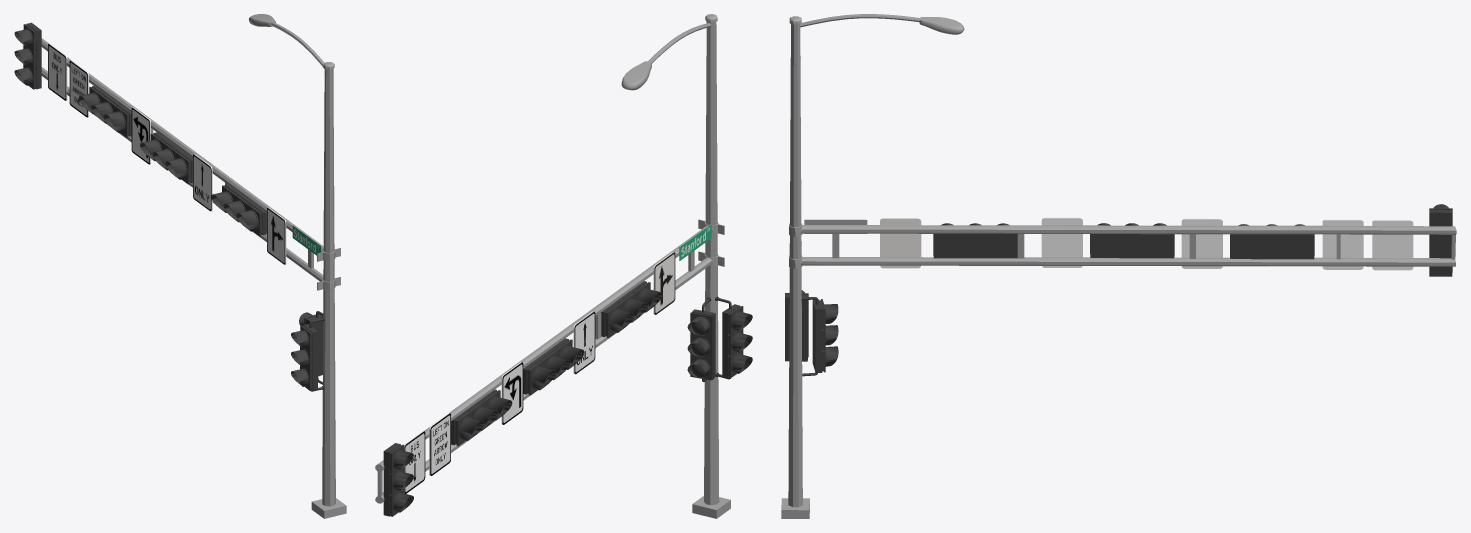
The model's file is Light.fbx.
The picture shows the model from 3 angles, left to right: view 1: azimuth 30°, elevation 25°; view 2: azimuth 150°, elevation 25°; view 3: azimuth 270°, elevation 25°; orthographic projection. The views are drawn at different scales.
Visible parts, largest first — view 1: Traffic Lights.014; view 2: Traffic Lights.014; view 3: Traffic Lights.014.
Part boxes in pixels (<box>): Traffic Lights.014: <box>14,14,346,518</box>; Traffic Lights.014: <box>375,14,752,518</box>; Traffic Lights.014: <box>781,14,1456,518</box>.
Size of the model in its own units: 134 by 1248 by 1531.
